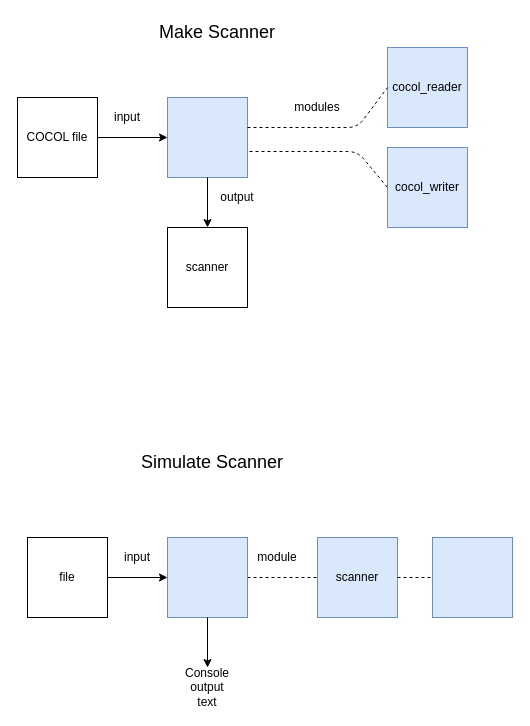
Image size: 530x726. Some labels were removed from this diagram. The centre of each missing label's shape, as x and y in pixels:
fake_parser: [207,577]
lex: [472,577]
scan_maker: [207,137]
